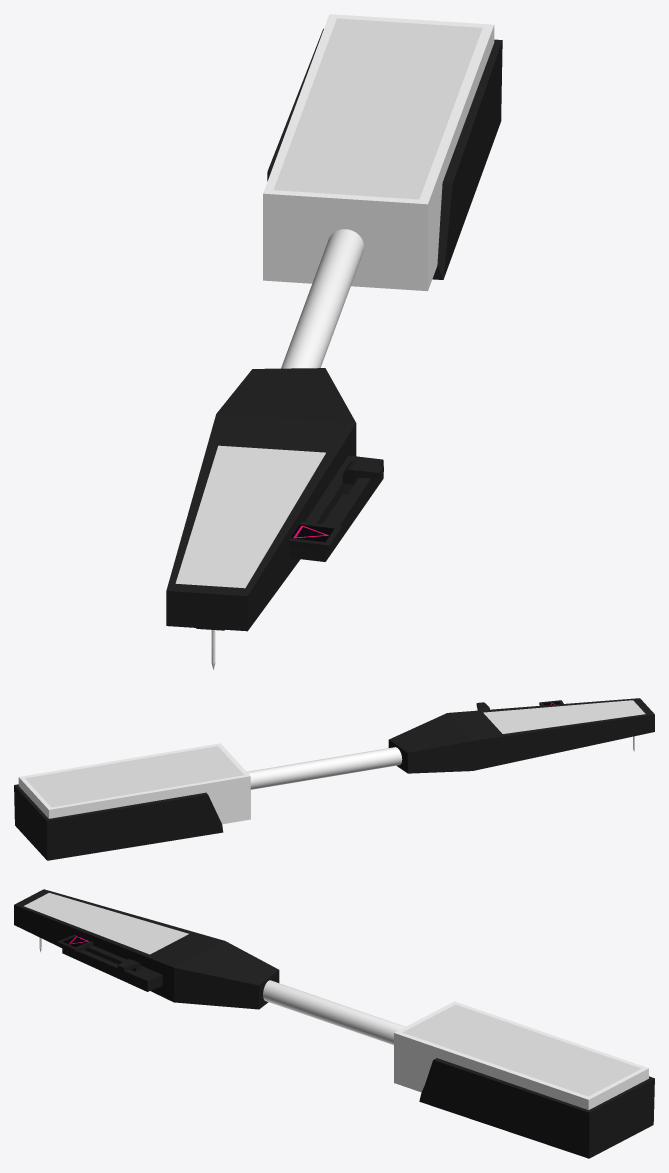
File: tonearm.glb
3 renders of one model, top to bottom at view 1: azimuth 30°, elevation 25°; view 2: azimuth 150°, elevation 25°; view 3: azimuth 270°, elevation 25°, orthographic. The views are drawn at different scales.
Visible parts, largest first — view 1: Cube.001, Cube.002, Cube.003, Cylinder.004; view 2: Cube.002, Cube.001, Cube.003, Cylinder.004; view 3: Cube.002, Cube.001, Cube.003, Cylinder.004.
Part boxes in pixels (x1,y1,x2,y2): Cube.001: (263,14,494,291); Cube.002: (166,368,383,631); Cube.003: (267,28,502,279); Cylinder.004: (281,229,364,368); Cube.002: (388,698,654,773); Cube.001: (18,743,250,824); Cube.003: (14,784,223,860); Cylinder.004: (247,747,402,789); Cube.002: (14,889,279,1009); Cube.001: (394,1001,648,1109); Cube.003: (419,1058,654,1158); Cylinder.004: (263,980,405,1044).
Bounding box in the file's own units: 0.1805 × 0.0244 × 0.2147.
Materials: 5 (1 with a texture image).
